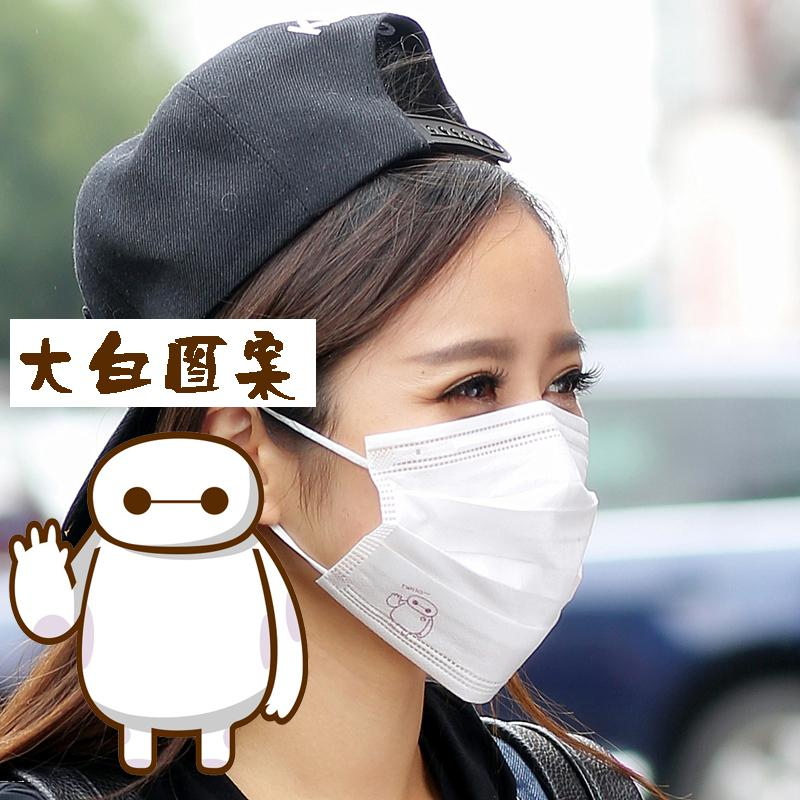OK: (343, 273, 603, 694)
